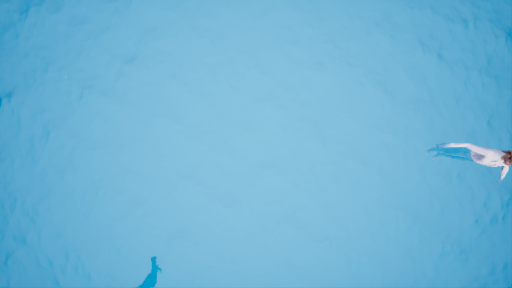person: (433, 137, 512, 188)
